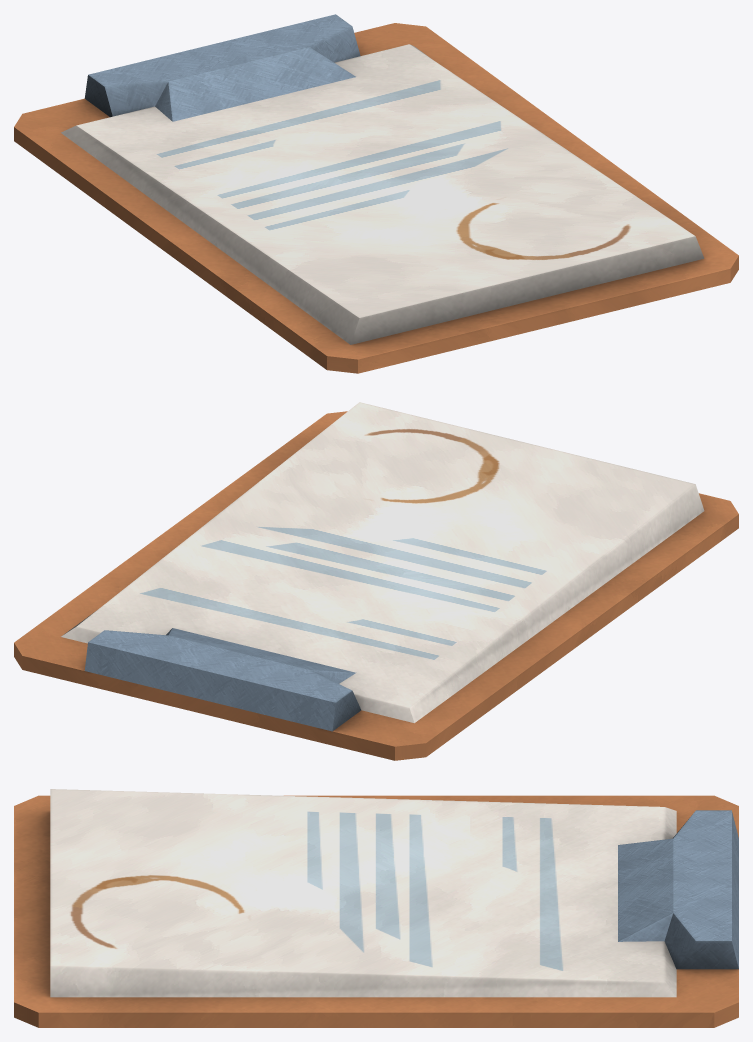
Rendered from notes.glb.
3 renders of one model, top to bottom at view 1: azimuth 30°, elevation 25°; view 2: azimuth 150°, elevation 25°; view 3: azimuth 270°, elevation 25°, orthographic. The views are drawn at different scales.
Visible parts, largest first — view 1: Object_2; view 2: Object_2; view 3: Object_2.
Boxes of the visible parts, x1,y1,x2,y2 form: Object_2: [14, 14, 738, 373]; Object_2: [14, 402, 738, 760]; Object_2: [14, 789, 738, 1027].
Bounding box in the file's own units: 4.99 × 0.4676 × 7.04.
1 material, 1 textured.
